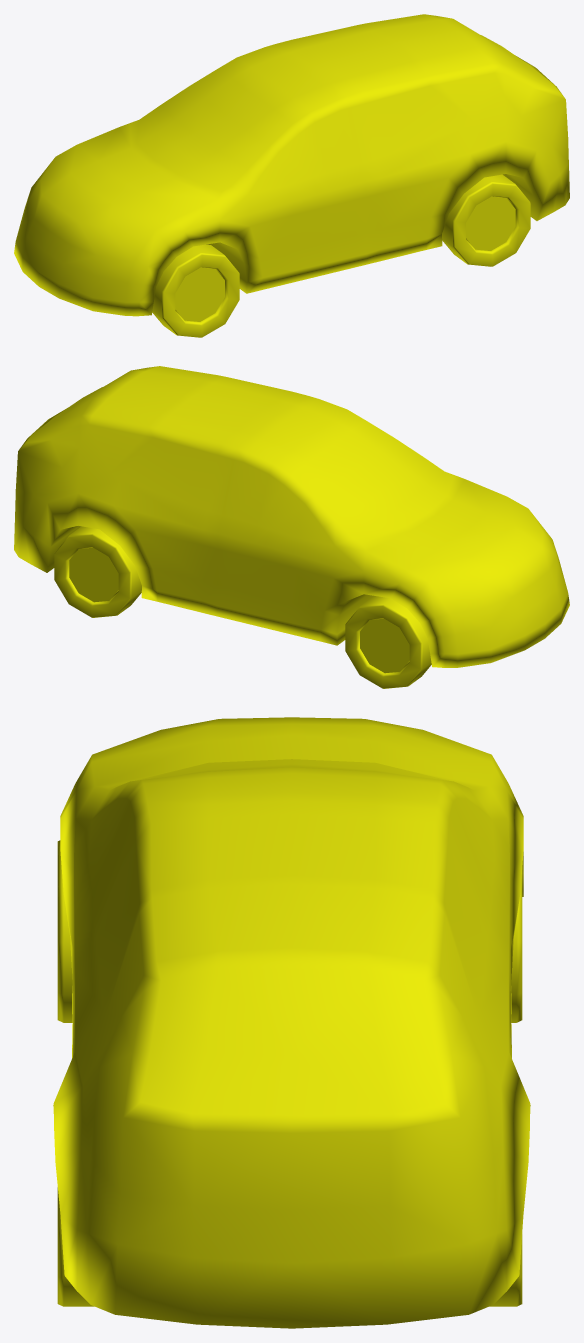
Rendered from Car_01_Lod0.fbx.
The picture shows the model from 3 angles, top to bottom: view 1: azimuth 30°, elevation 25°; view 2: azimuth 150°, elevation 25°; view 3: azimuth 270°, elevation 25°; orthographic projection. The views are drawn at different scales.
Parts seen in each view (by area): view 1: Car_01_Lod0; view 2: Car_01_Lod0; view 3: Car_01_Lod0.
Boxes of the visible parts, x1,y1,x2,y2 form: Car_01_Lod0: (14,14,569,337); Car_01_Lod0: (14,366,569,688); Car_01_Lod0: (53,717,530,1328).
Size of the model in its own units: 553 by 202 by 229.
